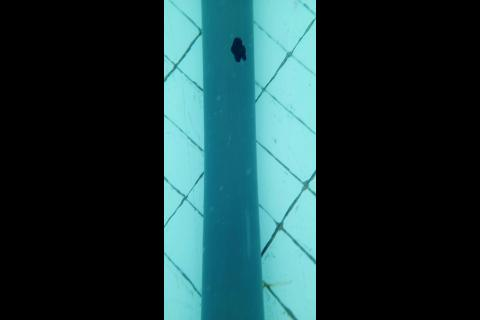kebocoran: (229, 36, 248, 64)
